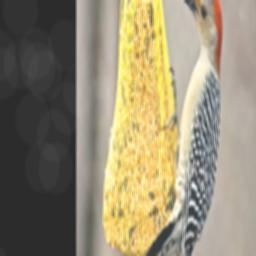Woodpecker: (132, 0, 235, 256)
